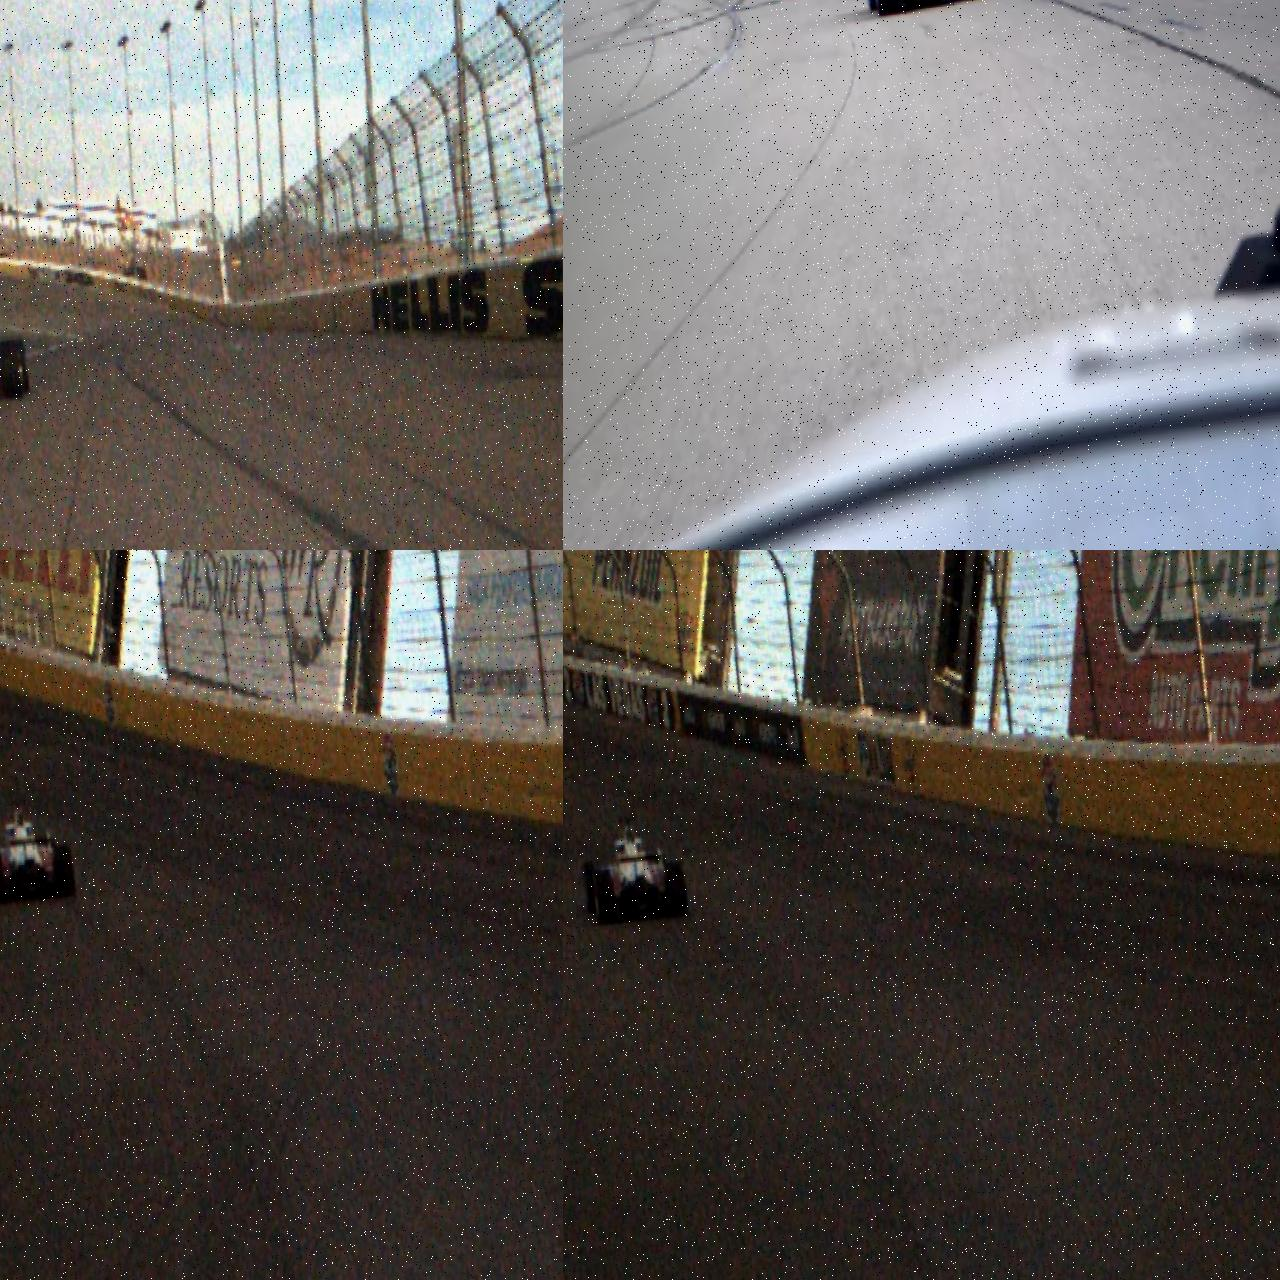AV: (576, 808, 692, 930), (0, 794, 79, 910), (0, 286, 30, 407)
Wheel: (592, 870, 619, 927), (666, 860, 690, 919), (54, 845, 79, 901), (0, 340, 23, 399), (580, 859, 600, 913), (873, 0, 899, 16), (0, 852, 7, 905), (864, 0, 883, 11)
